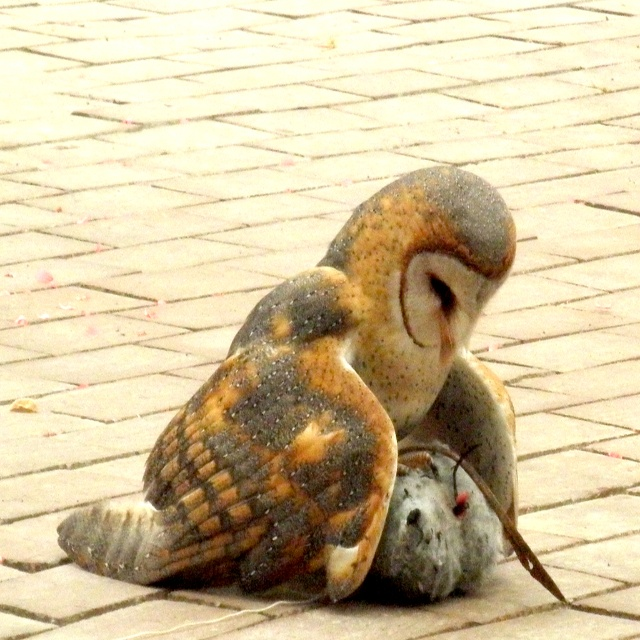Owl: (57, 161, 570, 605)
